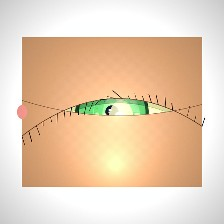corneal_ulcer: (91, 95, 151, 143)
